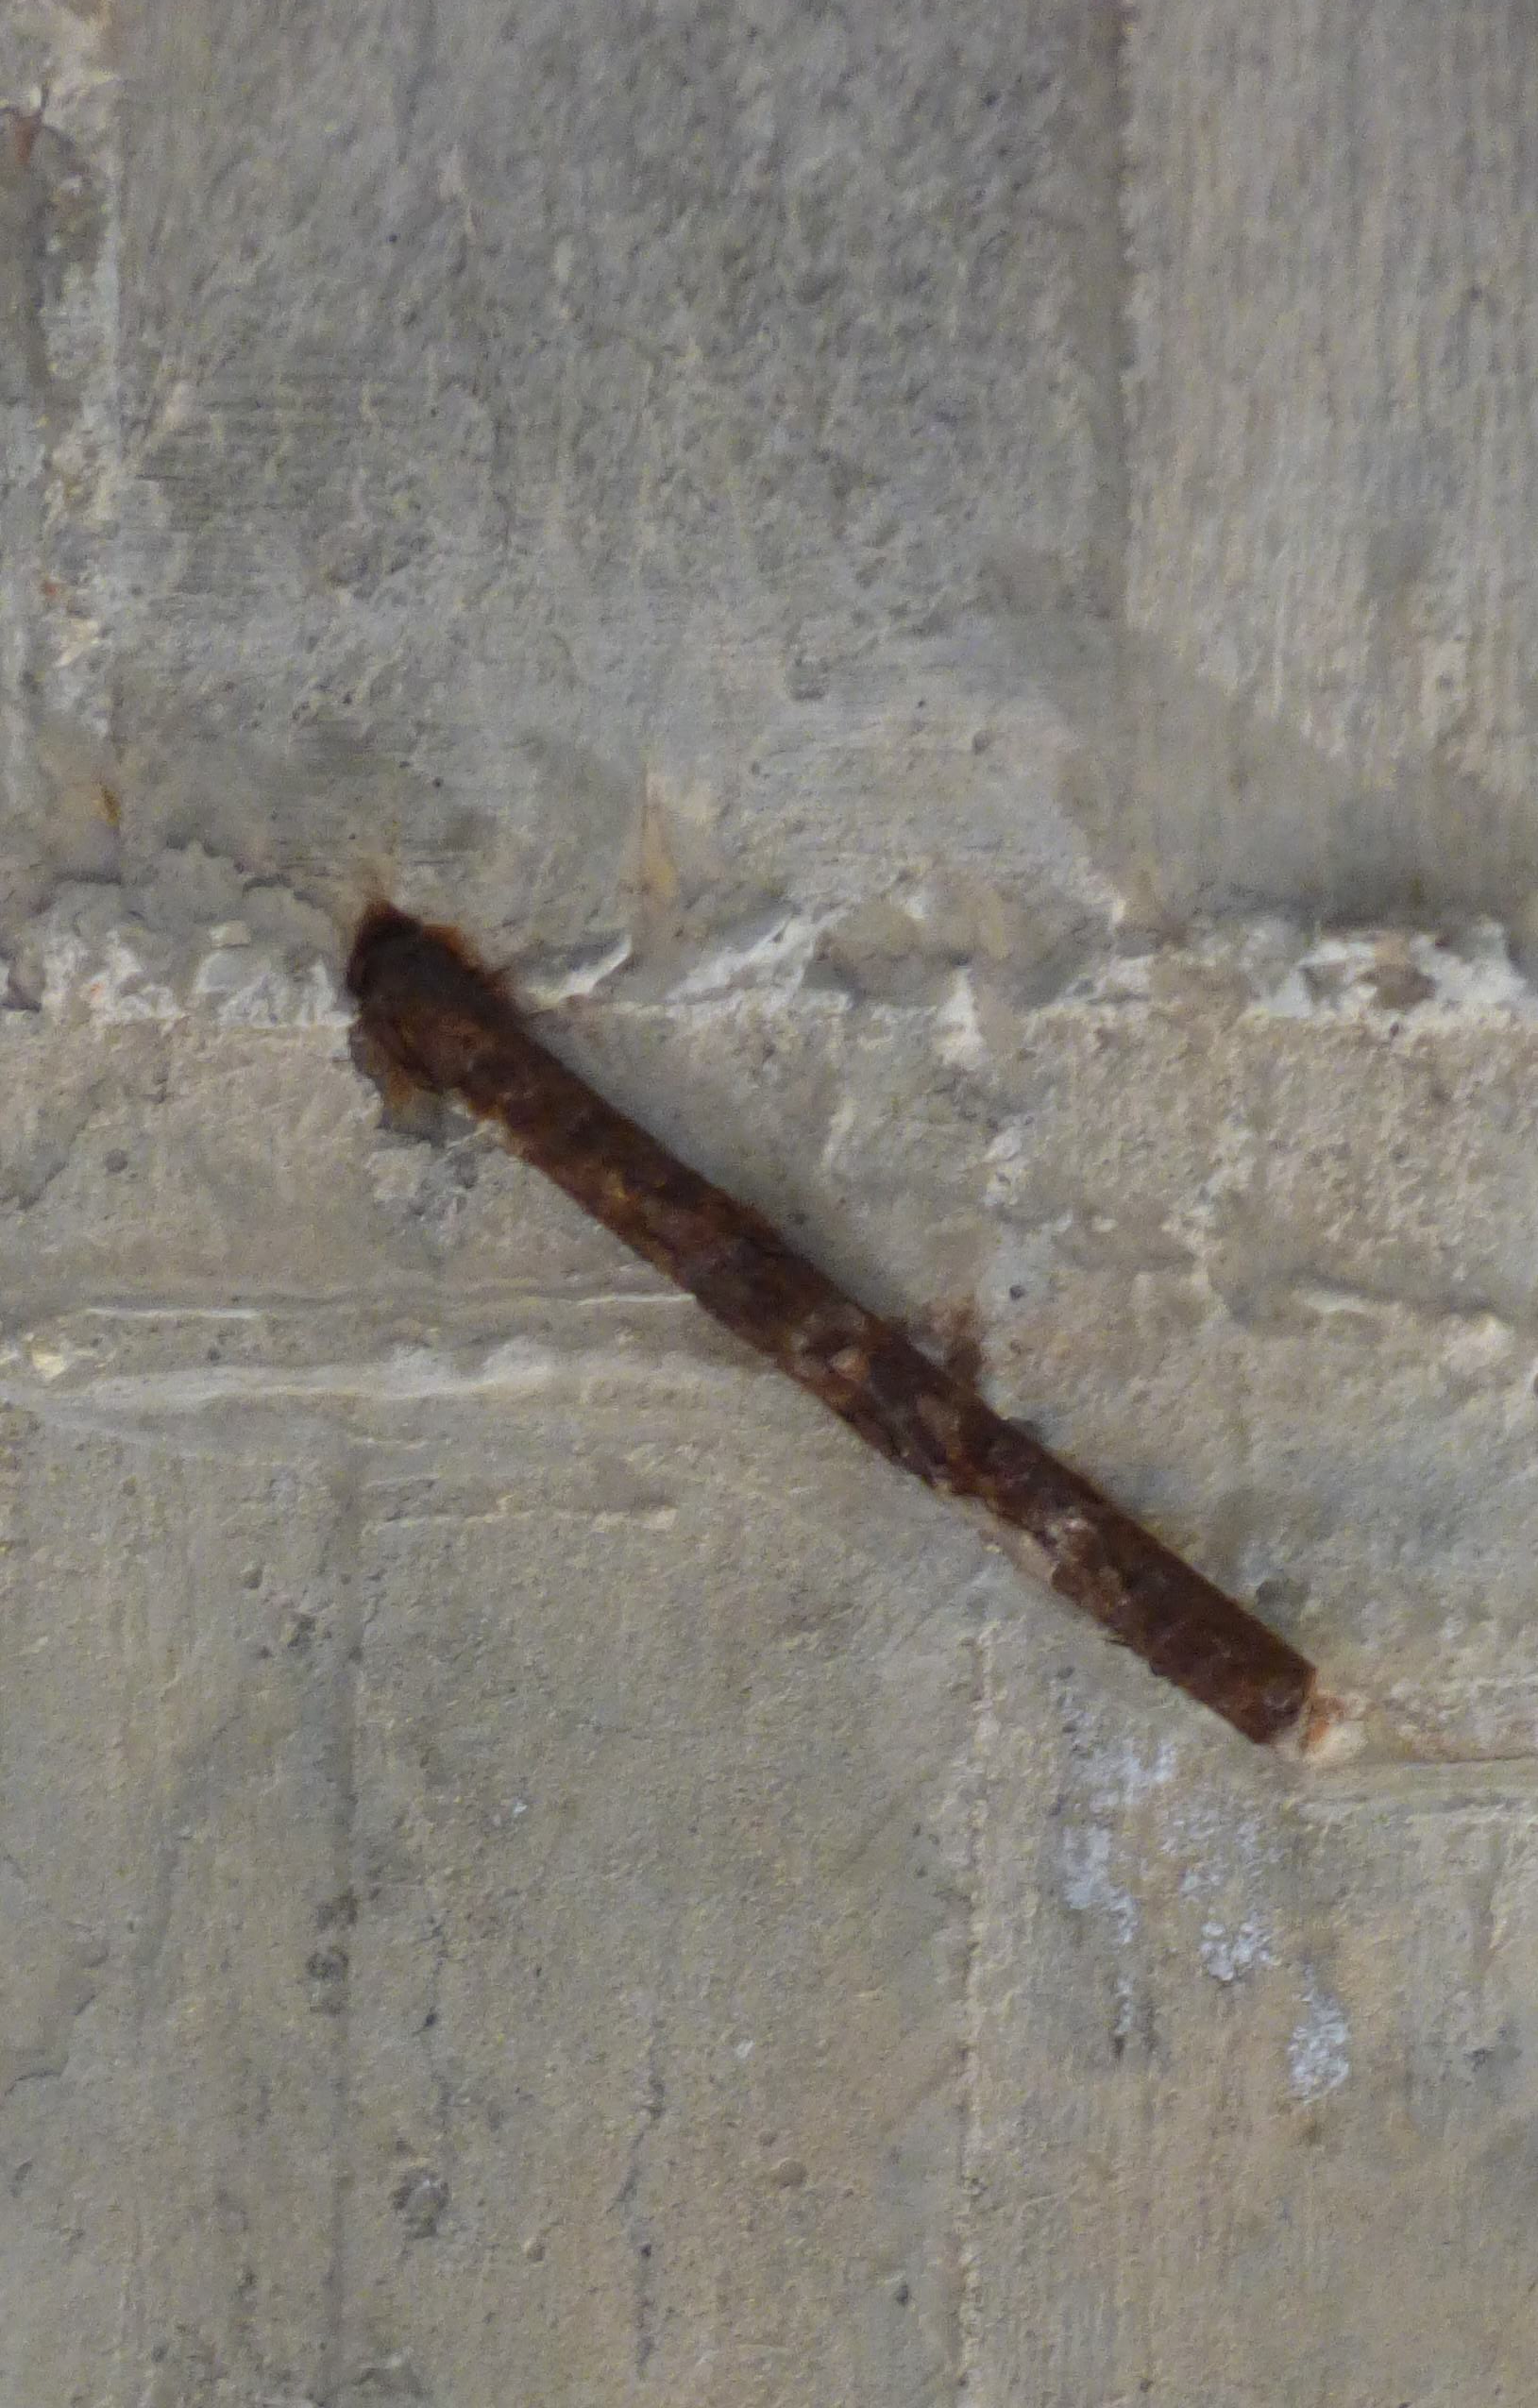Exposed reinforcement: (367, 927, 1322, 1746)
